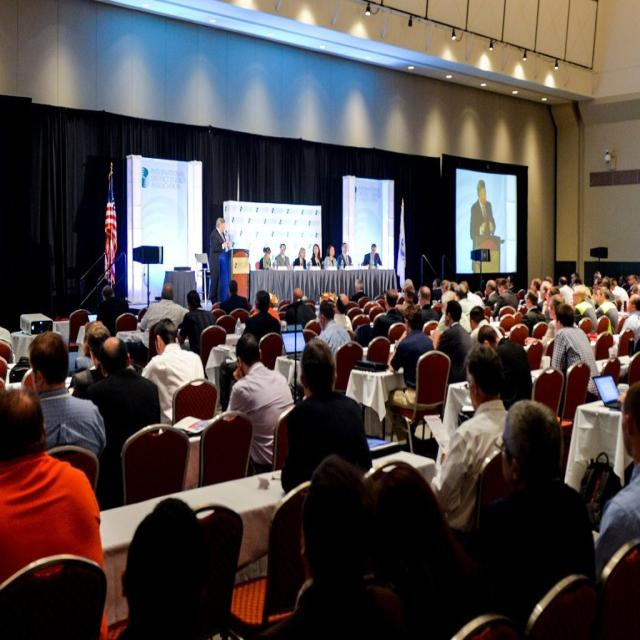body: (108, 454, 484, 639), (418, 396, 600, 639), (0, 383, 111, 639), (425, 342, 512, 550), (279, 338, 373, 496), (82, 336, 161, 511), (592, 375, 640, 618), (27, 328, 107, 462), (224, 332, 296, 474), (379, 302, 438, 450), (140, 318, 206, 426), (452, 164, 512, 270), (549, 302, 603, 402), (476, 323, 534, 411), (138, 282, 190, 362), (428, 276, 491, 342), (434, 298, 474, 385), (70, 324, 112, 398), (173, 288, 217, 358), (528, 272, 574, 324), (314, 297, 352, 356), (243, 289, 282, 345), (208, 216, 232, 306), (574, 269, 639, 302), (96, 284, 130, 337), (74, 319, 104, 374), (250, 290, 280, 343), (469, 305, 505, 349), (373, 288, 405, 337), (284, 286, 317, 331), (616, 292, 640, 352), (570, 284, 599, 333), (521, 288, 547, 338), (594, 286, 620, 335), (218, 278, 250, 315), (492, 278, 519, 320), (393, 280, 420, 318), (416, 285, 441, 322), (333, 292, 355, 334), (394, 283, 417, 318), (363, 242, 383, 268), (484, 278, 500, 310), (558, 275, 574, 305), (350, 278, 368, 304), (337, 242, 352, 270), (310, 242, 324, 270), (274, 242, 290, 266), (324, 244, 338, 271), (506, 274, 520, 300), (292, 247, 308, 269), (259, 246, 272, 269)
